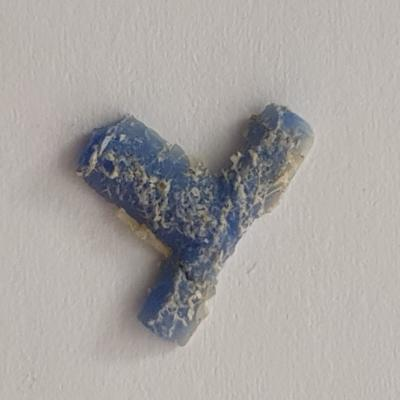plastic: (67, 100, 319, 349)
